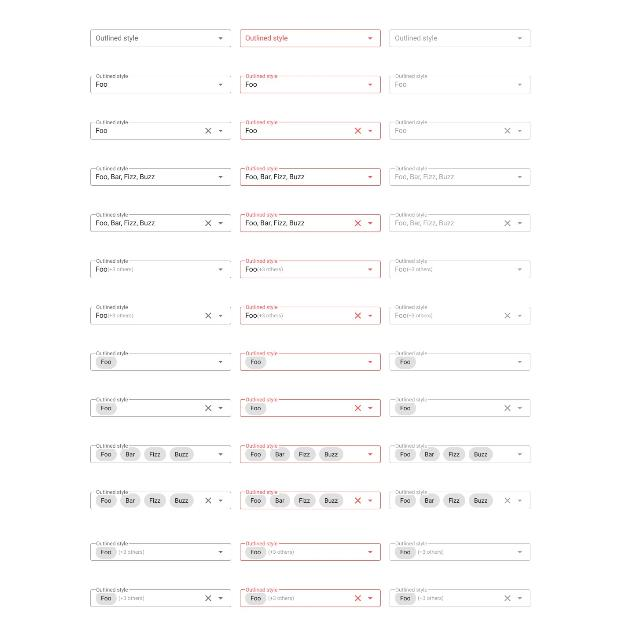VCombobox: (88, 258, 232, 280), (239, 258, 381, 280), (388, 212, 530, 234), (88, 74, 232, 95), (238, 74, 382, 95), (388, 74, 530, 95), (88, 352, 232, 372), (88, 397, 232, 417), (388, 398, 532, 418), (88, 444, 232, 464), (238, 444, 382, 464), (238, 490, 382, 510), (238, 398, 382, 418), (238, 120, 382, 140), (238, 213, 382, 233), (238, 352, 382, 372), (89, 28, 231, 48), (89, 120, 231, 140), (388, 120, 530, 140), (89, 166, 231, 186), (388, 167, 530, 187), (388, 352, 530, 372), (388, 259, 530, 279), (388, 305, 530, 325), (89, 541, 231, 561), (388, 444, 530, 464), (388, 542, 530, 562), (388, 490, 530, 510), (89, 588, 231, 608), (388, 588, 530, 608), (239, 542, 381, 562), (89, 305, 231, 325), (239, 167, 381, 187), (238, 588, 380, 608), (238, 305, 380, 325), (388, 30, 532, 48), (238, 29, 382, 47), (89, 491, 231, 509), (89, 214, 231, 232)
